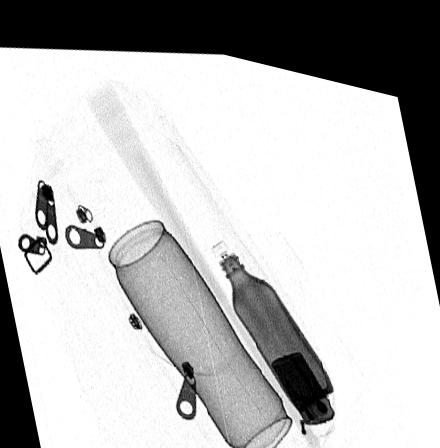Lighter: (271, 335, 335, 408)
